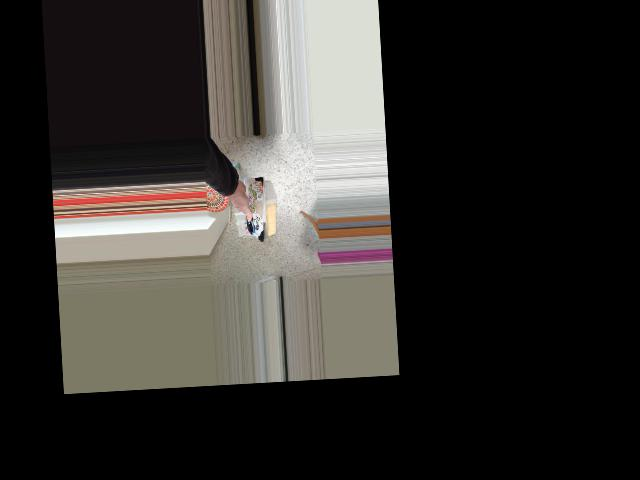cheese: (227, 167, 295, 245)
